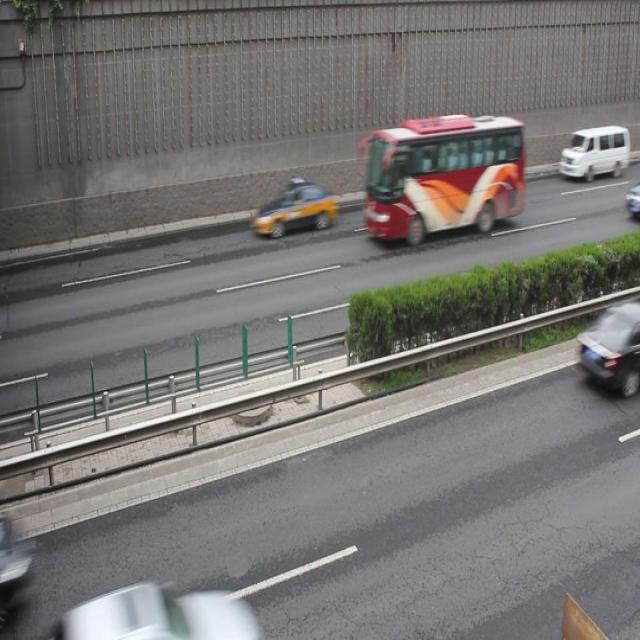car: (574, 299, 640, 393), (251, 180, 337, 238)
truck: (556, 126, 626, 179)
van: (364, 115, 524, 239)
